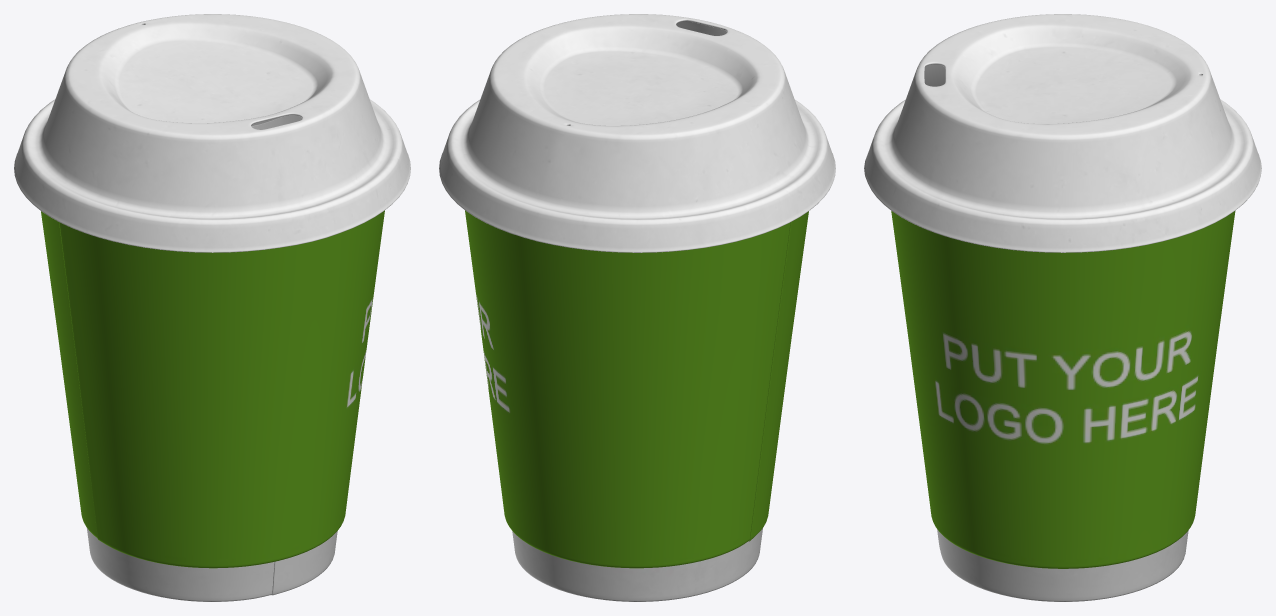
Rendered from kup-5-transformed.glb.
3 renders of one model, left to right at view 1: azimuth 30°, elevation 25°; view 2: azimuth 150°, elevation 25°; view 3: azimuth 270°, elevation 25°, orthographic.
Parts seen in each view (by area): view 1: Soft_drink_glass; view 2: Soft_drink_glass; view 3: Soft_drink_glass.
Part boxes in pixels (box(x1,y1,x2,y2)): Soft_drink_glass: box(14, 14, 410, 601); Soft_drink_glass: box(439, 14, 835, 601); Soft_drink_glass: box(864, 14, 1261, 601).
Bounding box in the file's own units: 0.0944 × 0.1251 × 0.0946.
1 material, 1 textured.
